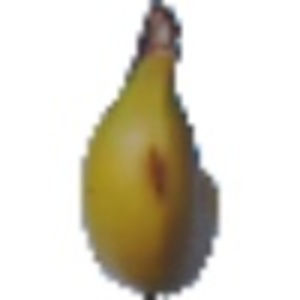banana: (72, 4, 222, 294)
